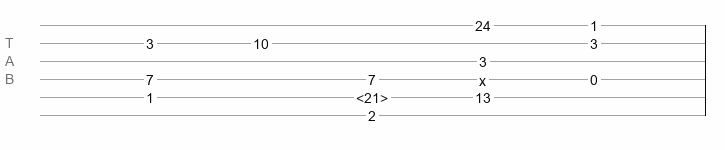0: (590, 72, 598, 82)
1: (146, 90, 154, 100), (590, 18, 598, 28)
10: (253, 36, 269, 46)
13: (475, 90, 491, 100)
2: (368, 108, 376, 118)
24: (475, 18, 491, 28)
3: (146, 36, 154, 46), (479, 54, 487, 64), (590, 36, 598, 46)
7: (146, 72, 154, 82), (368, 72, 376, 82)
harmonic: (356, 90, 388, 100)
x: (479, 73, 486, 81)
